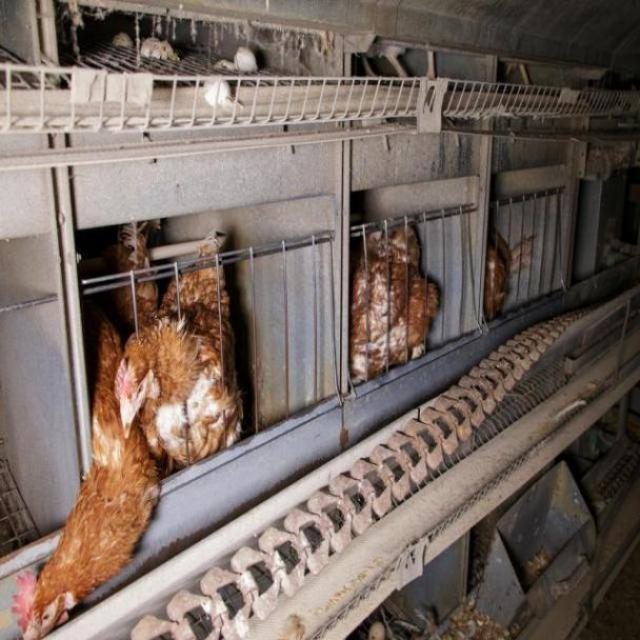Chicken: (11, 306, 163, 640), (115, 231, 240, 464), (481, 226, 538, 323)
